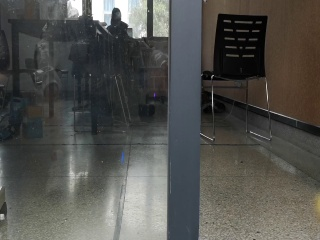room: (2, 1, 320, 236)
